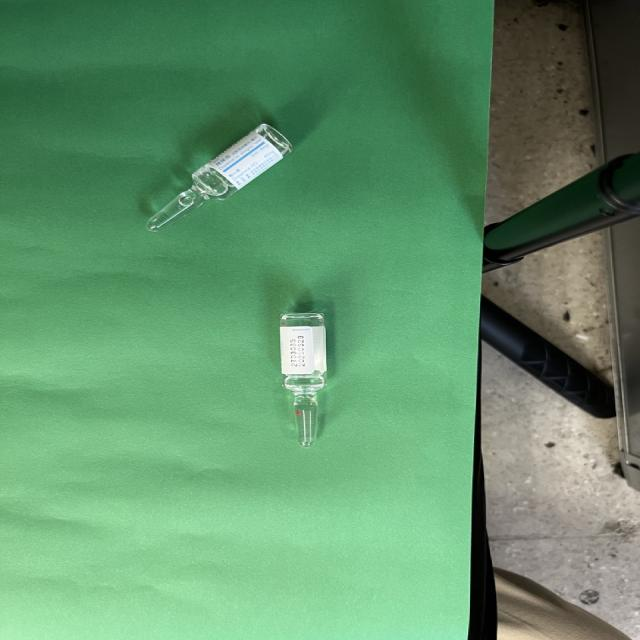Ampoules: (147, 123, 293, 232), (280, 312, 327, 448)
